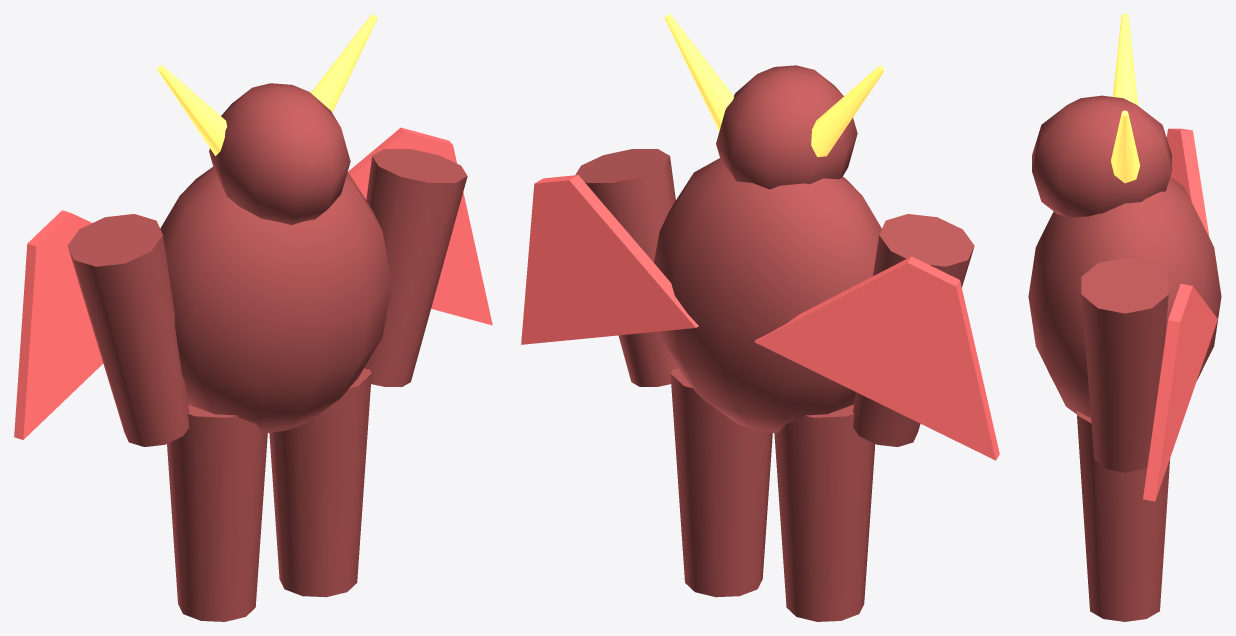
File: mon_balrog.glb
The picture shows the model from 3 angles, left to right: view 1: azimuth 30°, elevation 25°; view 2: azimuth 150°, elevation 25°; view 3: azimuth 270°, elevation 25°; orthographic projection. The views are drawn at different scales.
Parts seen in each view (by area): view 1: beast_body, demon_wings, beast_horns; view 2: beast_body, demon_wings, beast_horns; view 3: beast_body, demon_wings, beast_horns.
Boxes of the visible parts, bbox=[...] form: beast_body: bbox=[67, 83, 467, 621]; demon_wings: bbox=[14, 127, 492, 439]; beast_horns: bbox=[157, 14, 377, 155]; beast_body: bbox=[575, 65, 974, 621]; demon_wings: bbox=[521, 175, 999, 460]; beast_horns: bbox=[664, 14, 884, 157]; beast_body: bbox=[1028, 95, 1221, 621]; demon_wings: bbox=[1143, 128, 1217, 501]; beast_horns: bbox=[1111, 14, 1140, 183].
Size of the model in its own units: 3.26 by 3.63 by 1.22.
